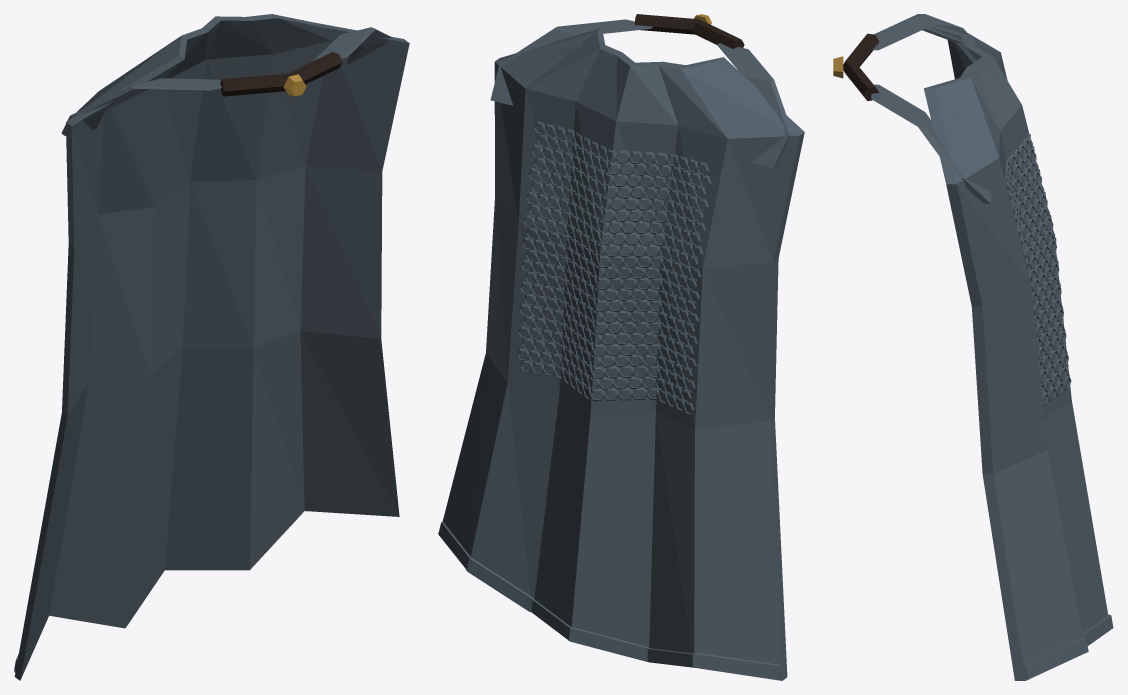
File: chain_back-male.glb
3 renders of one model, left to right at view 1: azimuth 30°, elevation 25°; view 2: azimuth 150°, elevation 25°; view 3: azimuth 270°, elevation 25°, orthographic. The views are drawn at different scales.
Visible parts, largest first — view 1: chain draped back mantle, Mantle neck fastening, Mantle shoulder fall -1, Mantle shoulder fall 1; view 2: chain draped back mantle, chain woven coverage on chain draped back mantle, Mantle weighted bound hem, Mantle shoulder fall -1, Mantle shoulder fall 1, Mantle neck fastening; view 3: chain draped back mantle, chain woven coverage on chain draped back mantle, Mantle shoulder fall 1, Mantle weighted bound hem, Mantle shoulder fall -1, Mantle neck fastening.
Part boxes in pixels (left/top/right/bottom): chain draped back mantle: left=14, top=14, right=409, bottom=680; Mantle neck fastening: left=220, top=52, right=342, bottom=96; Mantle shoulder fall -1: left=61, top=78, right=221, bottom=136; Mantle shoulder fall 1: left=313, top=27, right=391, bottom=65; chain draped back mantle: left=443, top=28, right=804, bottom=680; chain woven coverage on chain draped back mantle: left=516, top=121, right=711, bottom=415; Mantle weighted bound hem: left=438, top=521, right=781, bottom=679; Mantle shoulder fall -1: left=717, top=43, right=790, bottom=167; Mantle shoulder fall 1: left=490, top=19, right=653, bottom=105; Mantle neck fastening: left=634, top=14, right=744, bottom=48; chain draped back mantle: left=923, top=25, right=1108, bottom=680; chain woven coverage on chain draped back mantle: left=1005, top=134, right=1071, bottom=417; Mantle shoulder fall 1: left=871, top=84, right=990, bottom=203; Mantle weighted bound hem: left=1021, top=614, right=1113, bottom=678; Mantle shoulder fall -1: left=873, top=14, right=975, bottom=62; Mantle neck fastening: left=843, top=33, right=879, bottom=100.
Size of the model in its own units: 2.54 by 4 by 1.69.
